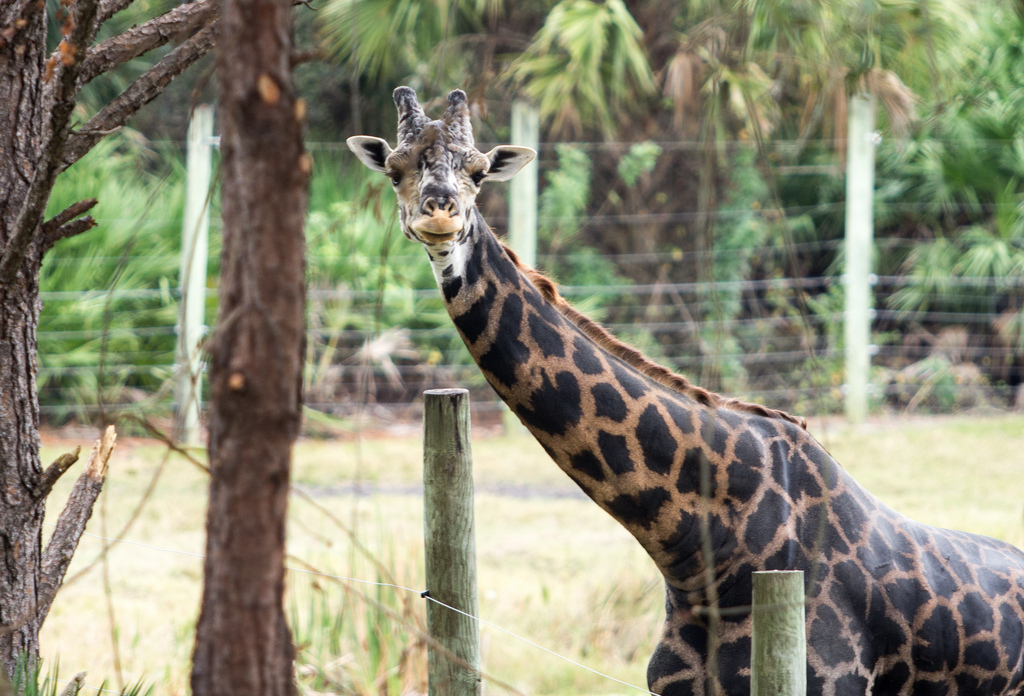giraffe: (344, 89, 1003, 664)
